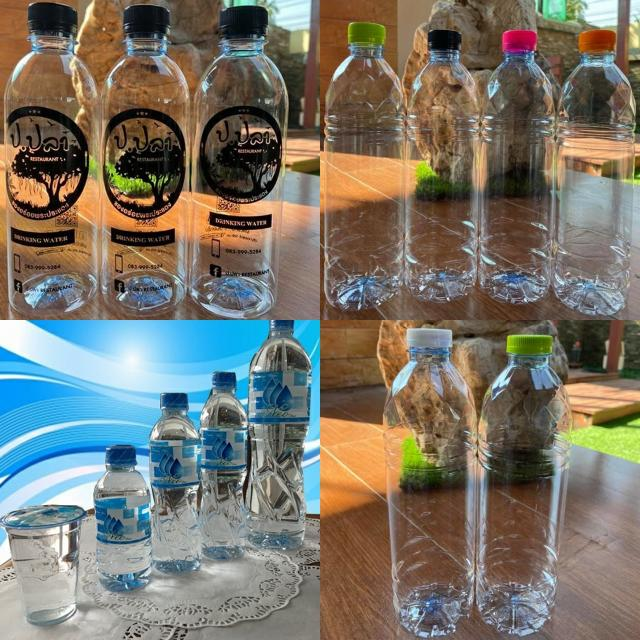Single-Use-Plastic: (0, 505, 86, 625)
